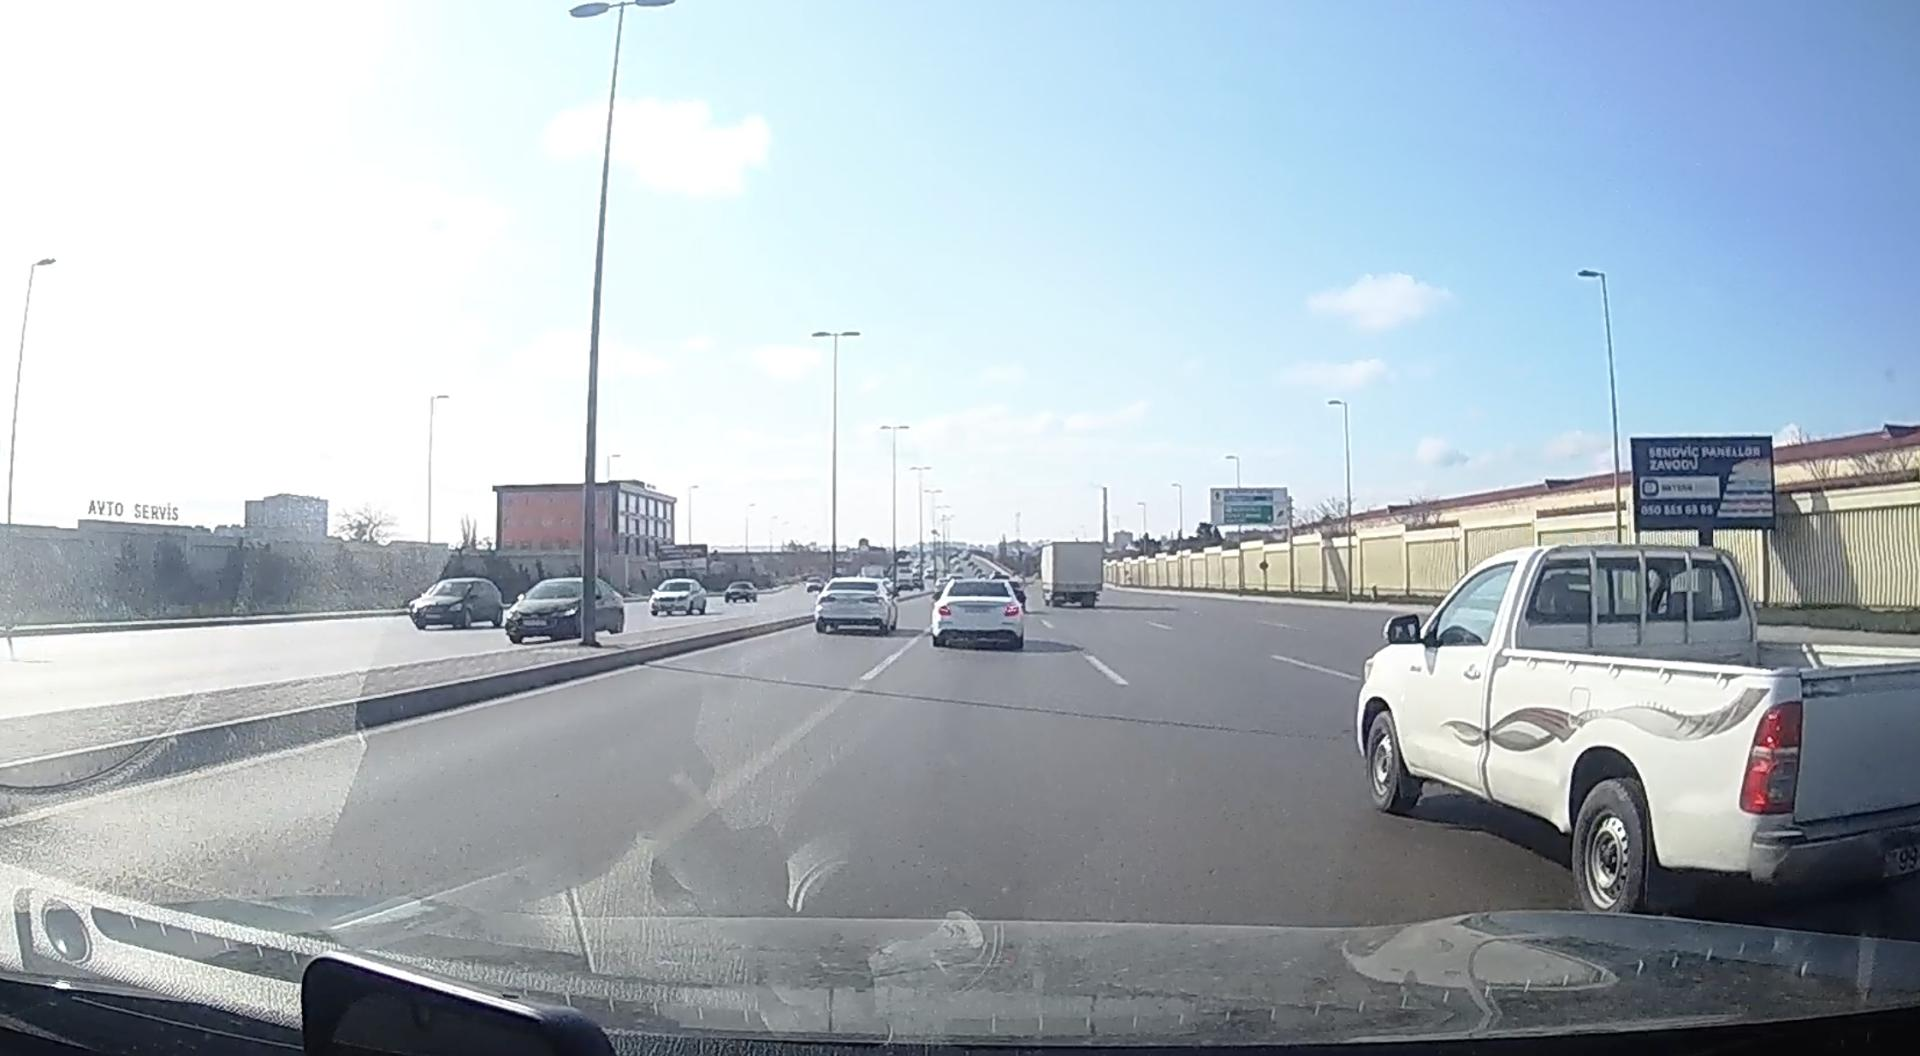banner: (1629, 435, 1780, 532)
